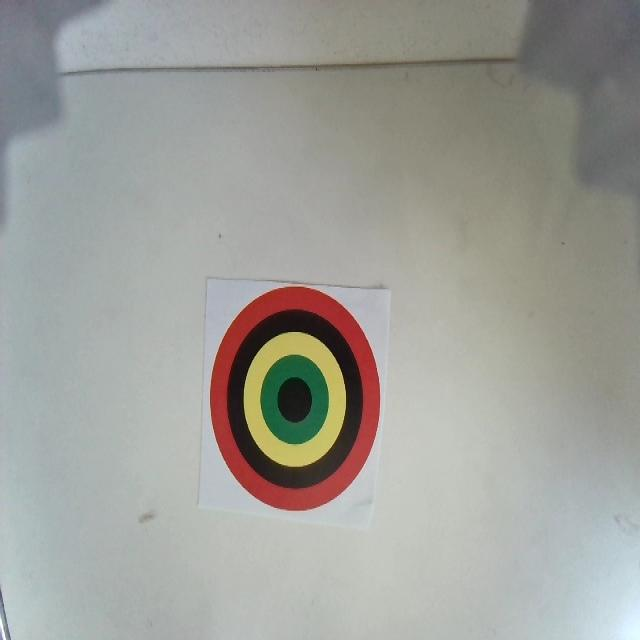cogn: (209, 284, 381, 510)
